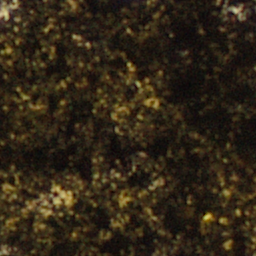cement_matrix: (0, 0, 255, 255), (57, 192, 69, 202)
gravel_crushed_stones: (58, 193, 68, 201), (0, 8, 7, 18)
